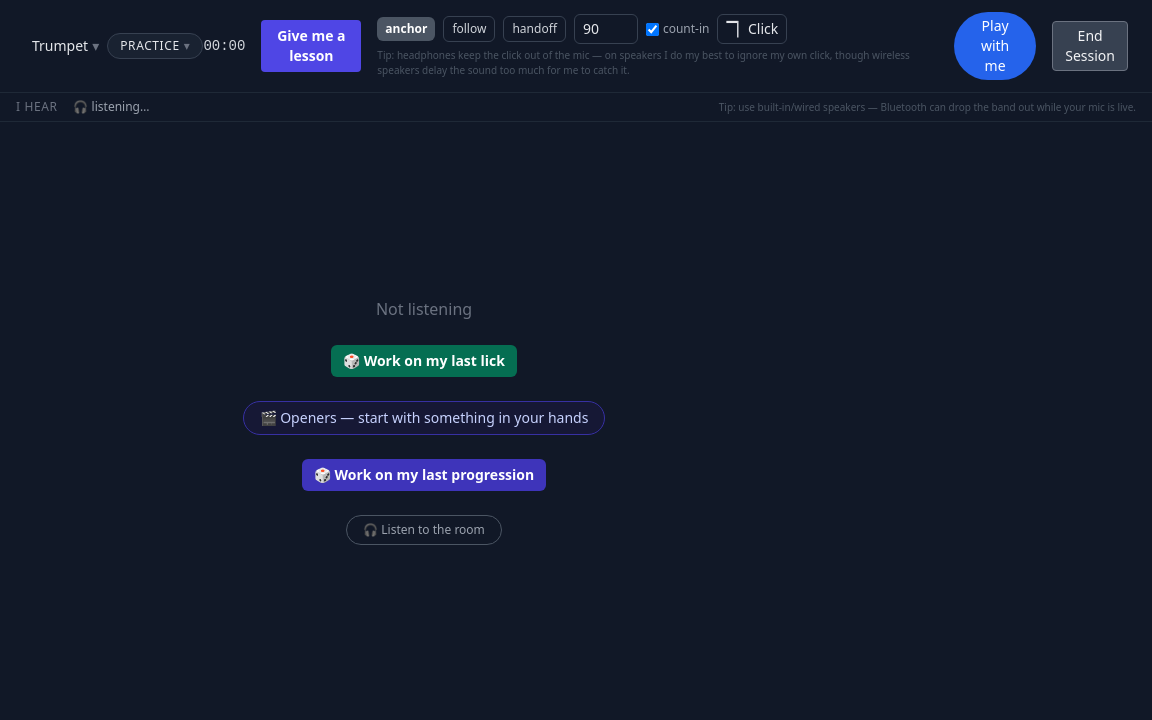
Test: PracticeSession › a failed lesson start shows the error instead of a dead button
The image size is (1152, 720).
Click the button with test id "start-lesson": (311, 46) [261, 20, 361, 72]
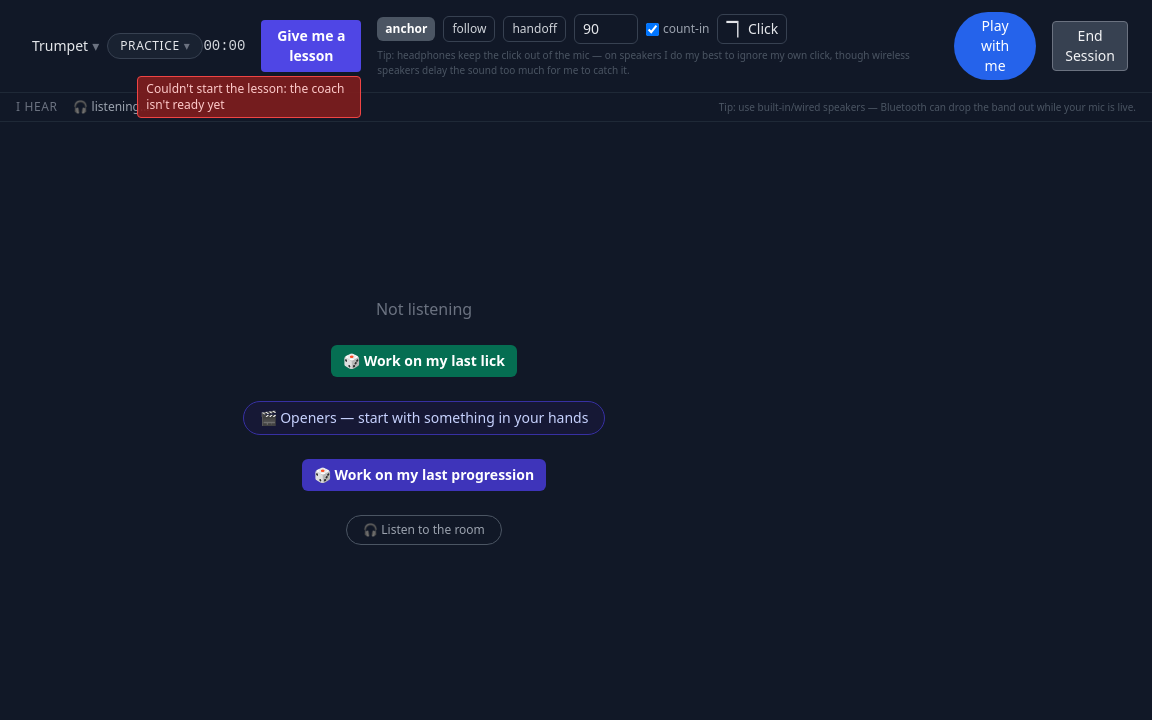
Expected: the message "Couldn't start the lesson: the coach isn't ready yet" is shown, [137, 76, 361, 118]
